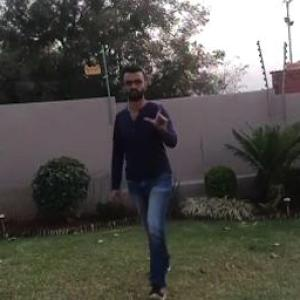land_hand: (140, 95, 174, 132)
